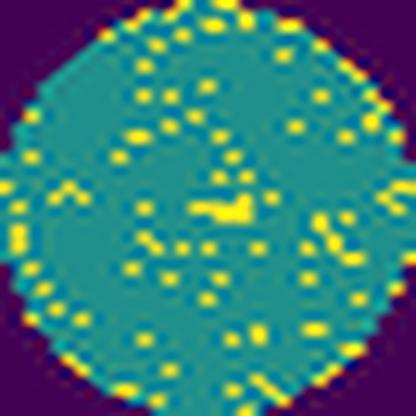Center: (182, 184, 255, 230)
